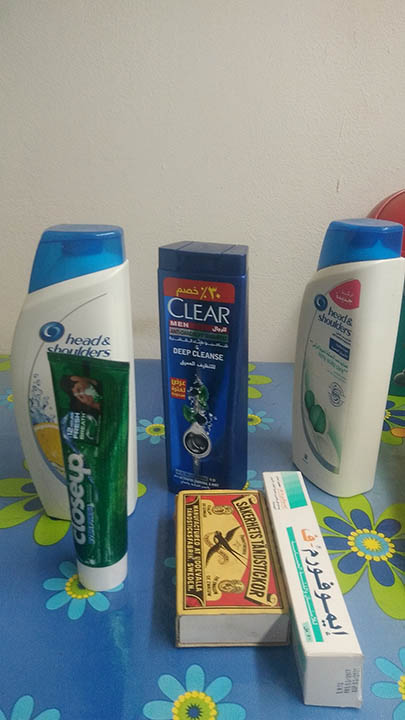Shampoo-Clear 4.7$: (145, 234, 257, 494)
Toothpaste-Closeup 3.04$: (49, 350, 135, 599)
Toothpaste-F 1.5$: (260, 466, 375, 707)
match-sticks .90$: (177, 485, 279, 645)
shampoo-Lemon 3.5$: (22, 227, 125, 519)
shampoo-green 4.5$: (288, 228, 401, 487)
